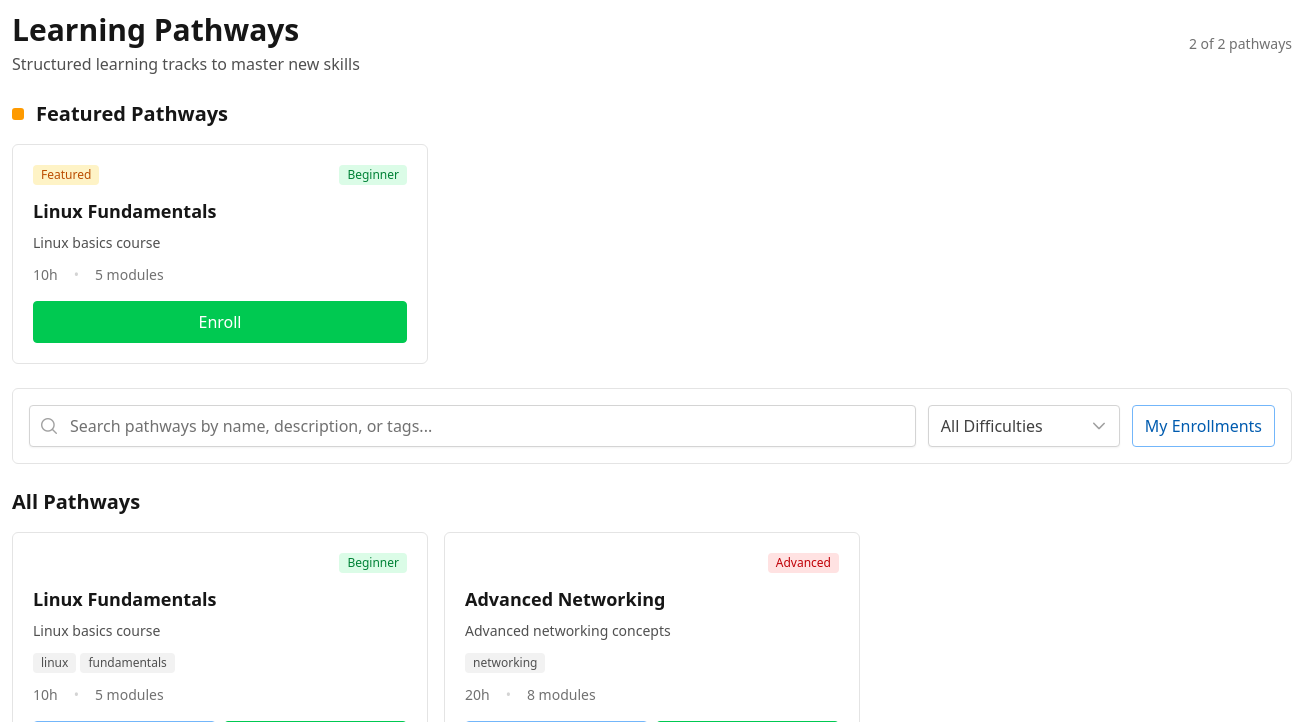
Test: PathwaysListView › filtering › should clear filters
This screenshot has width=1304, height=722.
Step 1. Type "test" into the field named "Search pathways by name, description, or tags" → (472, 426), box [29, 405, 916, 447]
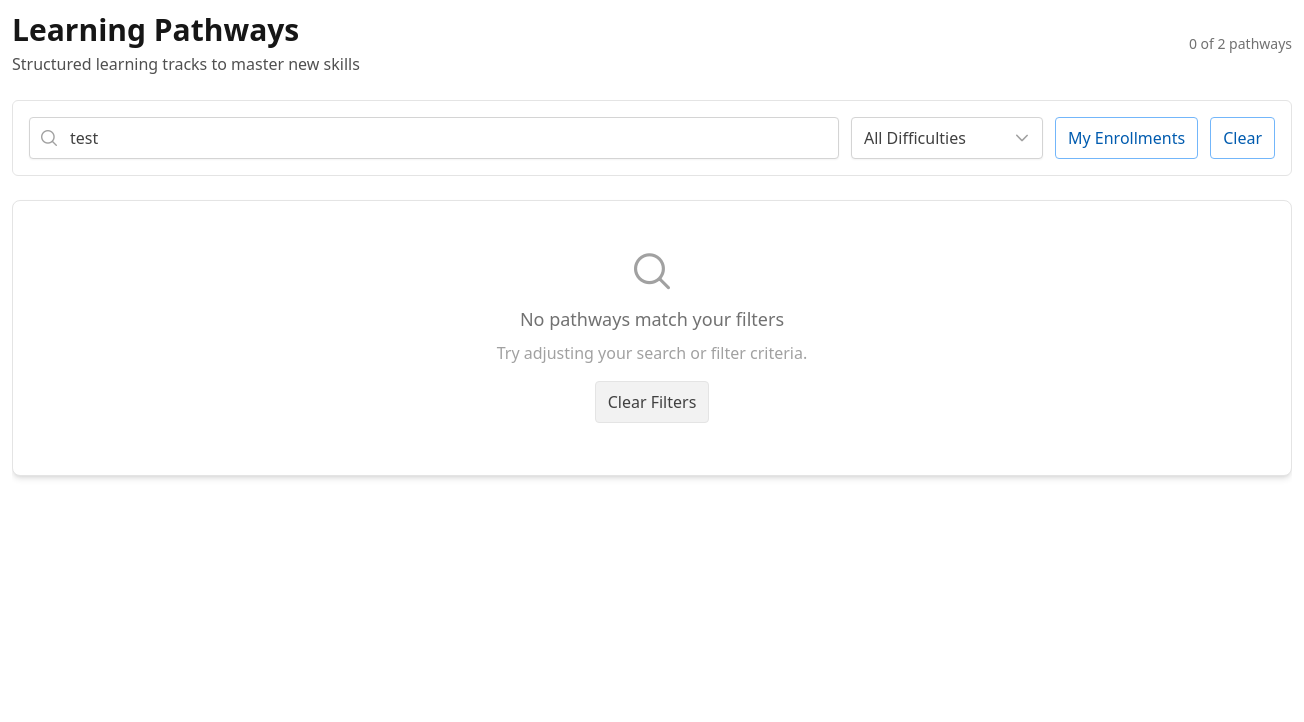
Result: the button "Clear" is shown
Step 2. Click the button "Clear" → click(1243, 138), box [1210, 117, 1275, 159]
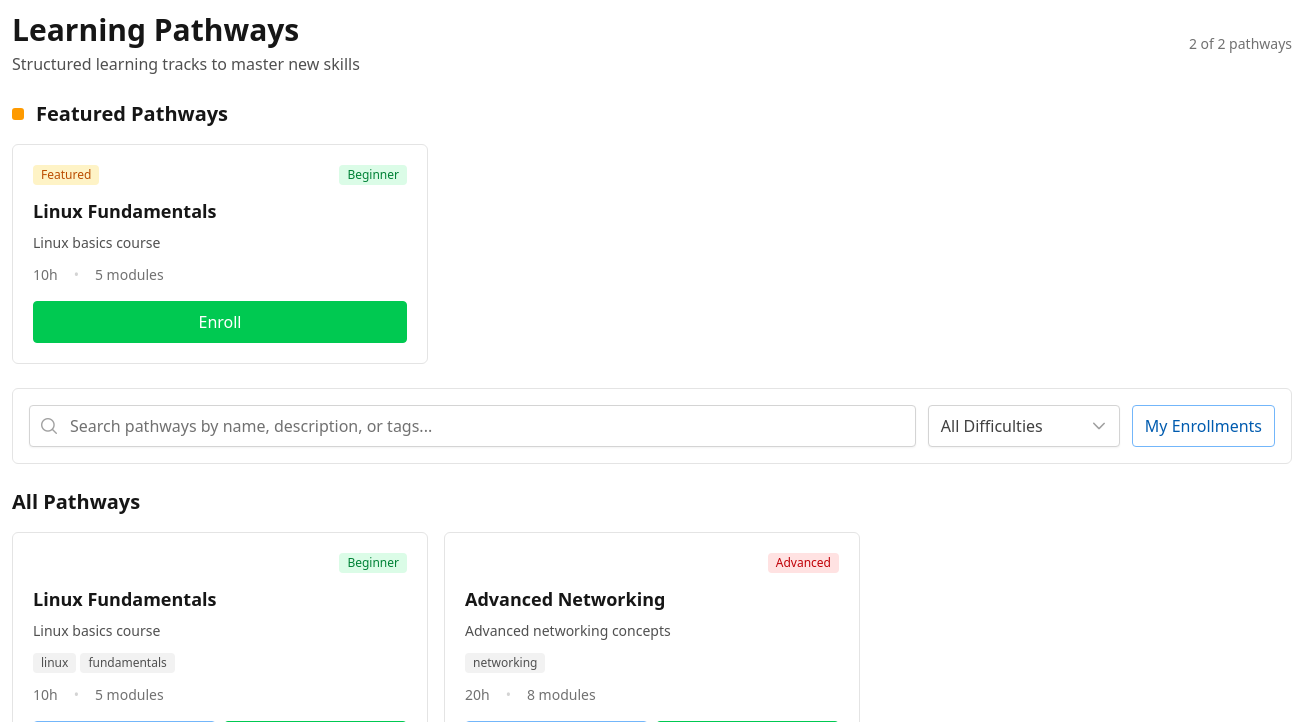
Result: the text "2 of 2" is shown at [1189, 34, 1292, 53]
